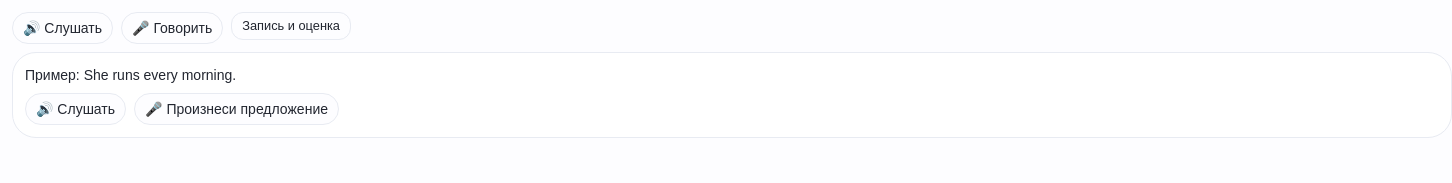
Test: PronounceControls › shows the example sentence and matches a spoken version
Expected: the text "Пример: She runs every morning." is shown, [25,67,236,83]
Click the button "🎤 Произнеси предложение" at (237, 109), box [134,93,339,125]
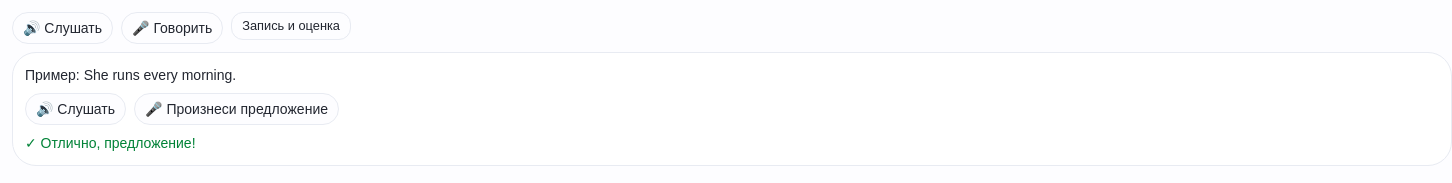
Expected: the text "✓ Отлично, предложение!" is shown, [25,135,196,151]
